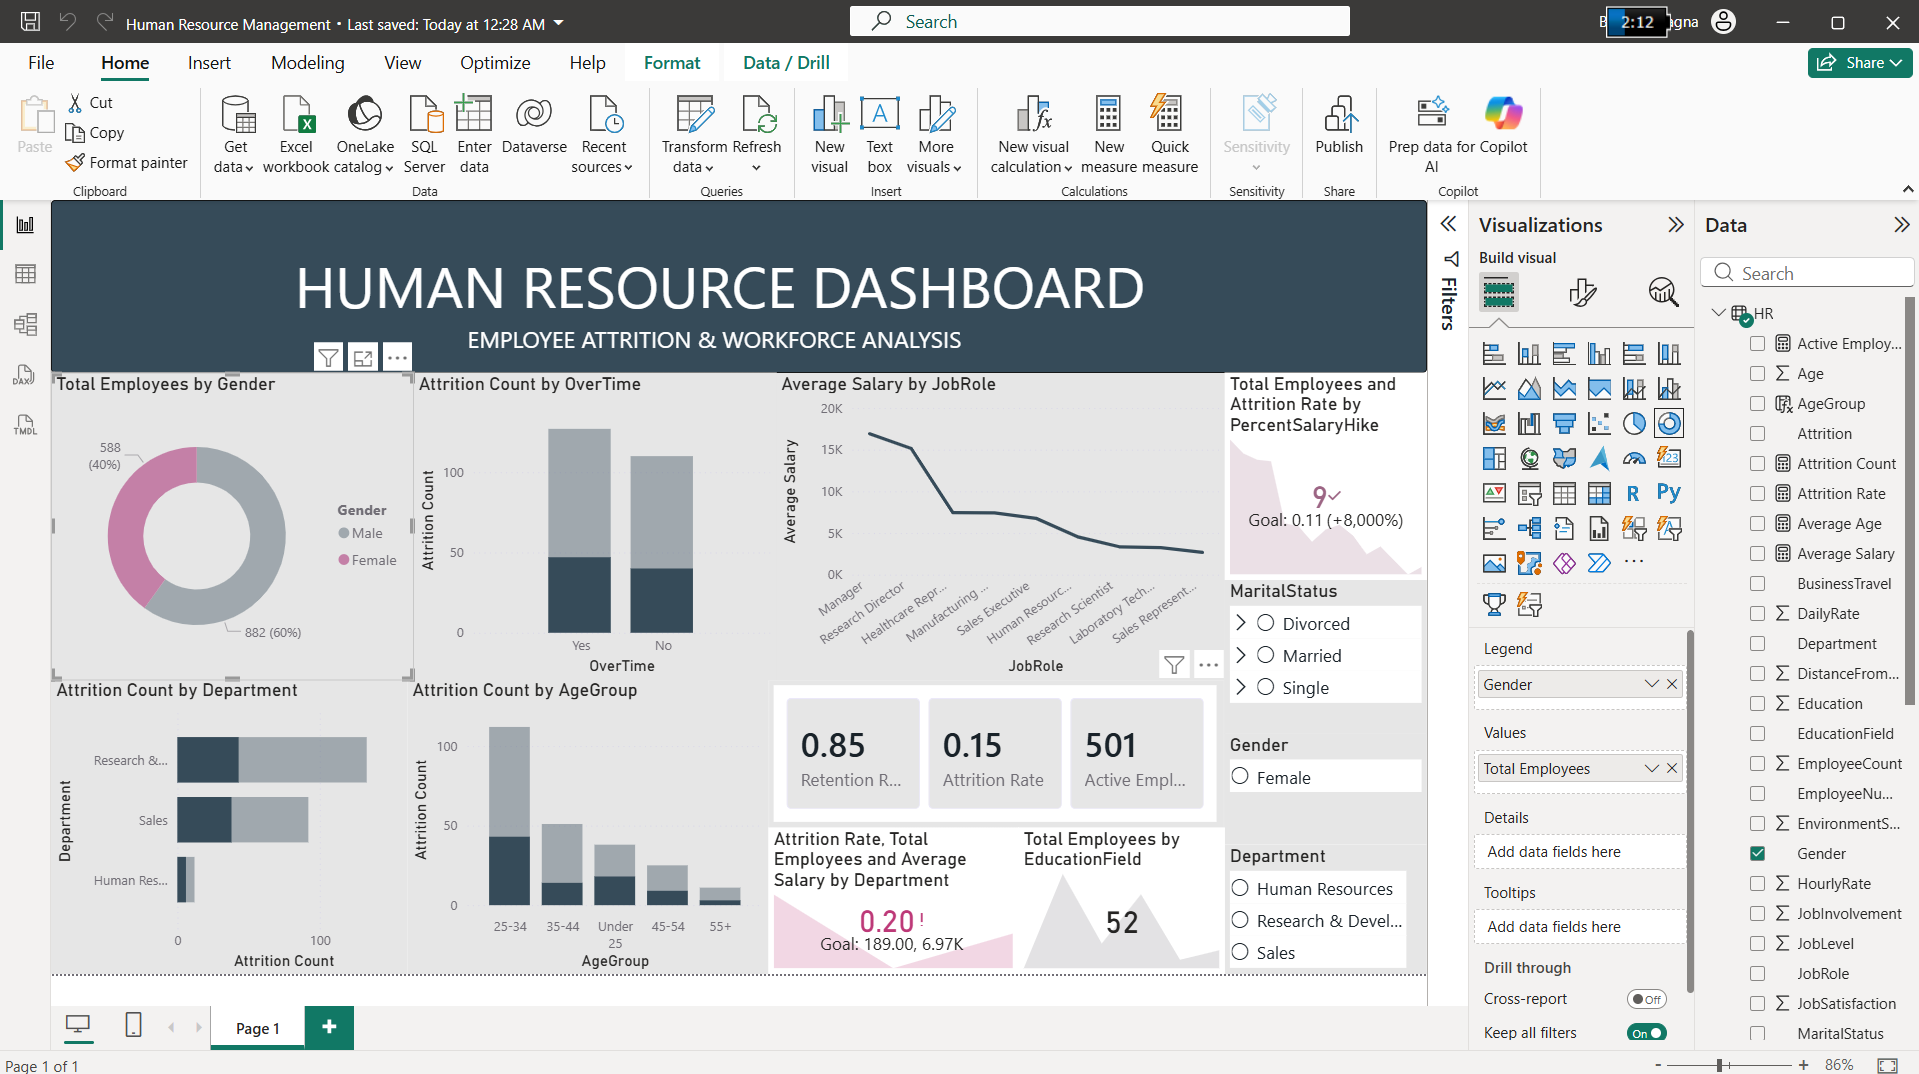

This screenshot's page, from the dashboard's own definition file:
{"tool":"powerbi","page":{"name":"Page 1","canvas":[1280,720],"ordinal":0},"visuals":[{"type":"clusteredBarChart","fields":{"Category":["HR.Department"],"Y":["HR.Attrition Count"]},"box":[0,445.4,331.4,275.6],"z":0},{"type":"donutChart","fields":{"Category":["HR.Gender"],"Y":["HR.Total Employees"]},"box":[0,160.5,337.6,285.4],"z":1000},{"type":"clusteredColumnChart","fields":{"Category":["HR.AgeGroup"],"Y":["HR.Attrition Count"]},"box":[331.4,445.4,336,275.6],"z":2000},{"type":"lineChart","fields":{"Category":["HR.JobRole"],"Y":["HR.Average Salary"]},"box":[674.4,160.5,417.4,286],"z":3000},{"type":"textbox","box":[0,0,1280.2,160.5],"z":4000},{"type":"clusteredColumnChart","fields":{"Y":["HR.Attrition Count"],"Category":["HR.OverTime"]},"box":[337.2,160.5,337.2,286],"z":5000},{"type":"cardVisual","fields":{"Data":["HR.Retention Rate","HR.Attrition Rate","HR.Active Employees"]},"box":[667.4,446.5,424.4,137.2],"z":6000},{"type":"listSlicer","fields":{"Values":["HR.Department"]},"box":[1092.3,599.7,188,120.8],"z":7000},{"type":"listSlicer","fields":{"Values":["HR.Gender"]},"box":[1091.9,496.5,188.4,103.5],"z":8000},{"type":"listSlicer","fields":{"Values":["HR.MaritalStatus","HR.JobRole"]},"box":[1091.9,353.5,188.4,143],"z":9000},{"type":"kpi","fields":{"Indicator":["HR.Total Employees"],"Goal":["HR.Attrition Rate"],"TrendLine":["HR.PercentSalaryHike"]},"box":[1091.9,160.5,188.4,193],"z":10000},{"type":"kpi","fields":{"Indicator":["HR.Attrition Rate"],"Goal":["HR.Total Employees","HR.Average Salary"],"TrendLine":["HR.Department"]},"box":[667.4,583.7,232.6,136],"z":11000},{"type":"kpi","fields":{"Indicator":["HR.Total Employees"],"TrendLine":["HR.EducationField"]},"box":[900,583.7,191.9,136],"z":12000}]}

Visuals, with their boxes on the page's 1280x720 design canvas (x1, y1, x2, y2). These are canvas units, not pixel positions in the 1919x1074 screenshot, which may show the page scaled, cropped or inside an application window:
clusteredBarChart - HR.Department x HR.Attrition Count: {"x1": 0, "y1": 445, "x2": 331, "y2": 721}
donutChart - HR.Gender x HR.Total Employees: {"x1": 0, "y1": 160, "x2": 338, "y2": 446}
clusteredColumnChart - HR.AgeGroup x HR.Attrition Count: {"x1": 331, "y1": 445, "x2": 667, "y2": 721}
lineChart - HR.JobRole x HR.Average Salary: {"x1": 674, "y1": 160, "x2": 1092, "y2": 446}
textbox: {"x1": 0, "y1": 0, "x2": 1280, "y2": 160}
clusteredColumnChart - HR.Attrition Count x HR.OverTime: {"x1": 337, "y1": 160, "x2": 674, "y2": 446}
cardVisual - HR.Retention Rate x HR.Attrition Rate: {"x1": 667, "y1": 446, "x2": 1092, "y2": 584}
listSlicer - HR.Department: {"x1": 1092, "y1": 600, "x2": 1280, "y2": 720}
listSlicer - HR.Gender: {"x1": 1092, "y1": 496, "x2": 1280, "y2": 600}
listSlicer - HR.MaritalStatus x HR.JobRole: {"x1": 1092, "y1": 354, "x2": 1280, "y2": 496}
kpi - HR.Total Employees x HR.Attrition Rate: {"x1": 1092, "y1": 160, "x2": 1280, "y2": 354}
kpi - HR.Attrition Rate x HR.Total Employees: {"x1": 667, "y1": 584, "x2": 900, "y2": 720}
kpi - HR.Total Employees x HR.EducationField: {"x1": 900, "y1": 584, "x2": 1092, "y2": 720}
